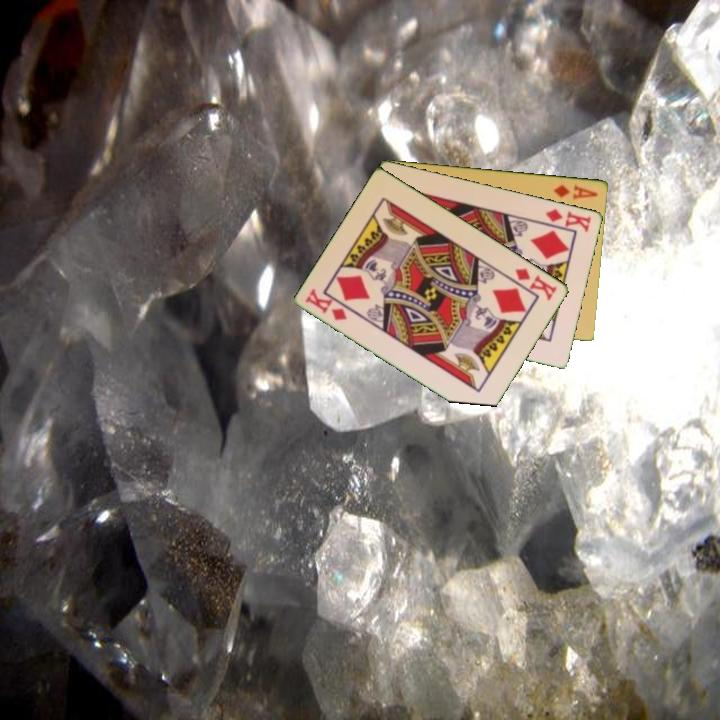Ad: (551, 180, 601, 202)
Kd: (511, 264, 560, 303), (302, 285, 350, 323), (538, 205, 594, 235)
